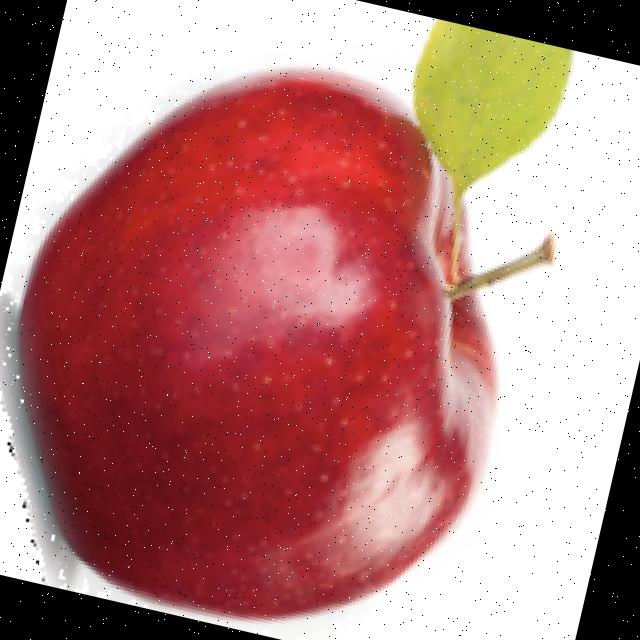apple: (0, 18, 568, 639)
